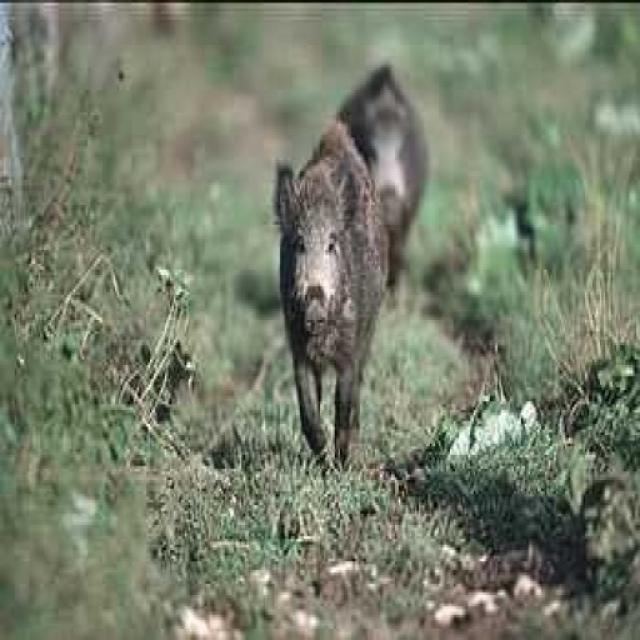pig: (213, 71, 410, 429)
